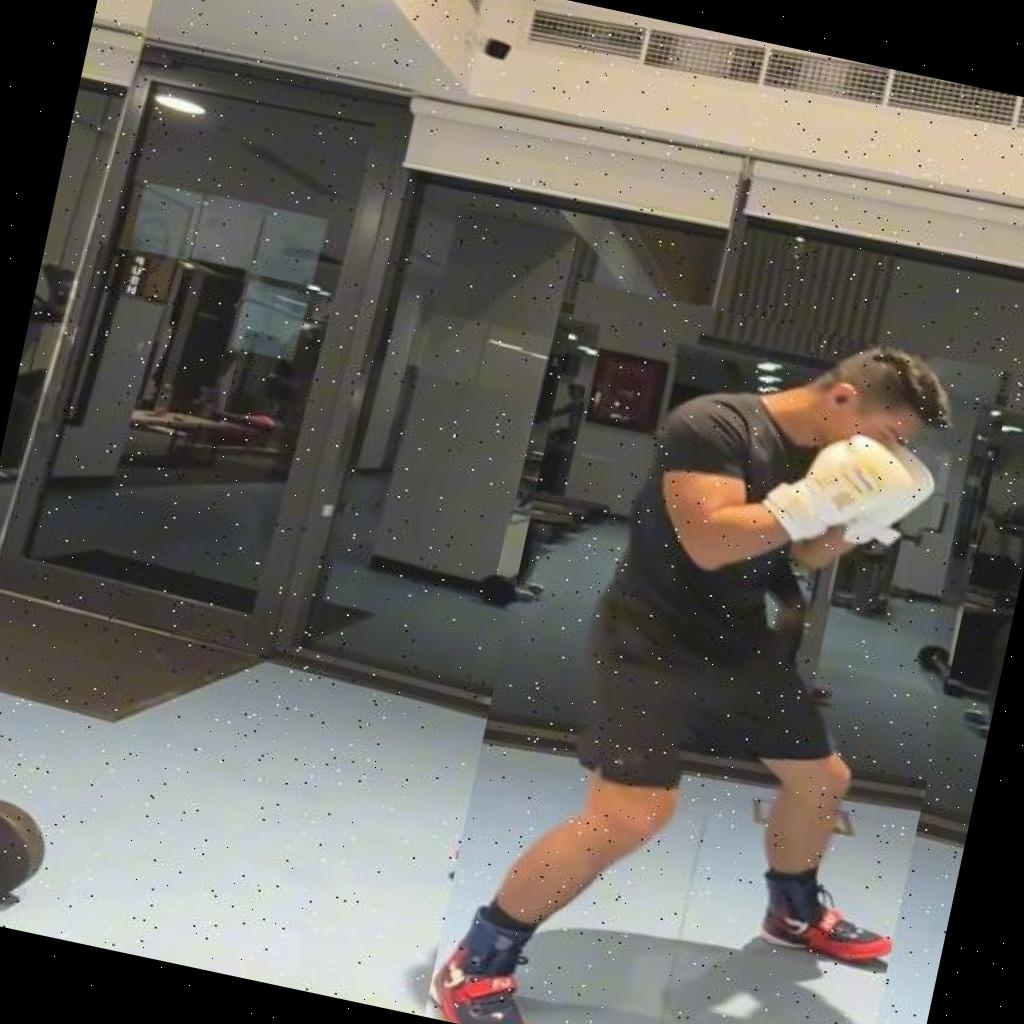no punch: (424, 281, 1015, 1024)
